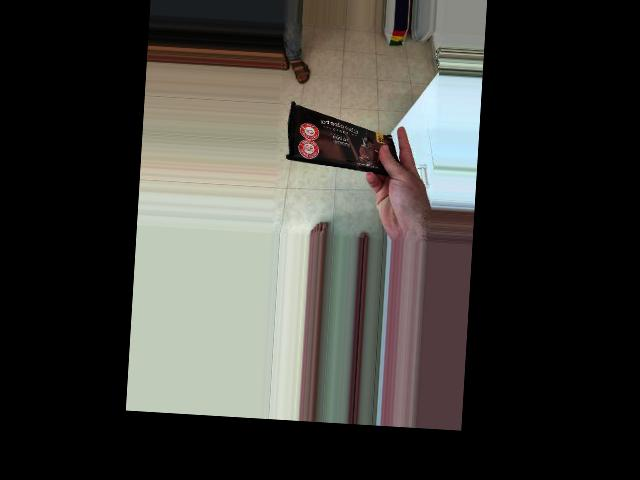chocolate: (280, 98, 411, 182)
